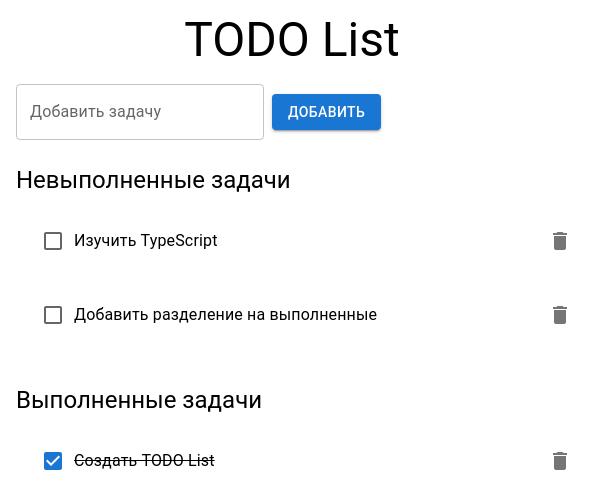
Scenario: App › должен удалять задачу
Click the 1st button named "delete".
click(560, 241)  # box [540,221,580,261]
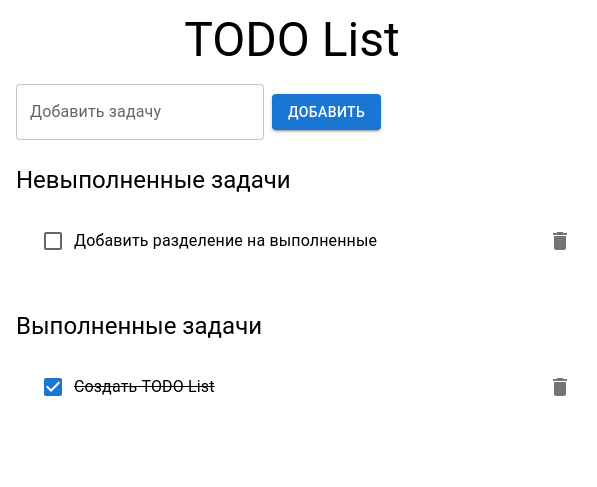
Expected: the button "Изучить TypeScript" is gone
